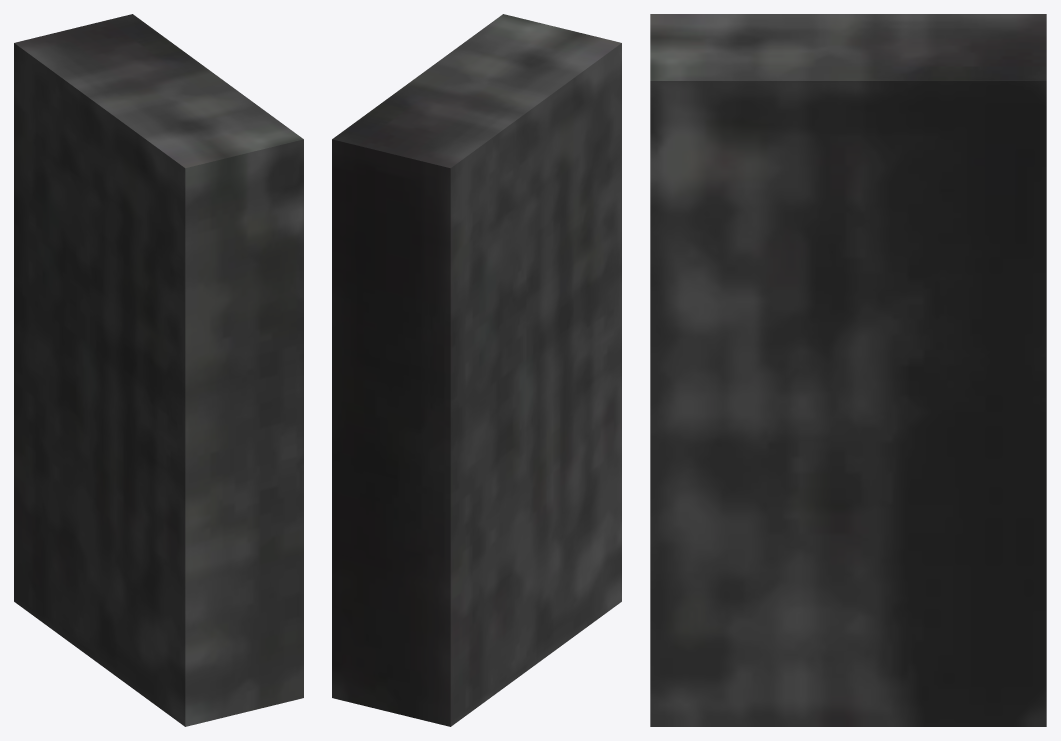
Rendered from program_button_1__button_stem.glb.
3 renders of one model, left to right at view 1: azimuth 30°, elevation 25°; view 2: azimuth 150°, elevation 25°; view 3: azimuth 270°, elevation 25°, orthographic. The views are drawn at different scales.
Parts seen in each view (by area): view 1: geometry_0; view 2: geometry_0; view 3: geometry_0.
Part boxes in pixels (x1,y1,x2,y2): geometry_0: [14, 14, 303, 726]; geometry_0: [332, 14, 621, 726]; geometry_0: [650, 14, 1046, 726].
Size of the model in its own units: 0.004 by 0.018 by 0.01.
Materials: 1 (1 with a texture image).
